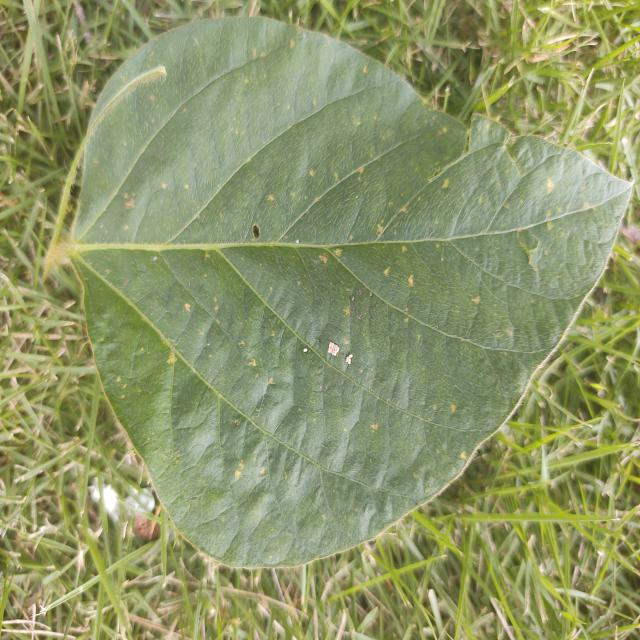Soybean: (62, 15, 633, 570)
downey_mildew: (111, 332, 158, 406), (230, 443, 276, 489), (317, 330, 357, 372), (344, 283, 372, 324), (516, 229, 539, 273), (122, 191, 137, 212), (234, 459, 246, 480), (327, 341, 339, 356), (546, 177, 556, 192), (38, 602, 48, 617), (167, 353, 177, 365), (407, 274, 415, 287), (470, 295, 480, 305), (399, 205, 409, 215), (318, 254, 327, 264), (441, 178, 449, 189), (546, 221, 554, 231), (334, 248, 342, 257), (450, 403, 457, 413), (184, 302, 191, 312), (383, 266, 390, 276), (248, 359, 256, 367), (370, 423, 378, 431), (343, 307, 351, 315), (460, 451, 467, 460), (358, 289, 365, 298), (377, 223, 383, 233), (506, 328, 513, 336), (401, 245, 408, 253), (267, 194, 274, 202), (357, 166, 364, 174), (478, 195, 484, 204), (289, 39, 294, 49), (162, 182, 168, 190), (309, 169, 315, 177), (322, 384, 328, 392), (349, 305, 355, 313), (363, 65, 368, 74), (8, 176, 13, 185), (252, 48, 256, 59), (268, 377, 274, 384), (123, 224, 129, 231), (205, 251, 210, 259), (239, 340, 245, 346), (150, 95, 155, 102), (116, 376, 121, 383), (404, 316, 409, 323), (350, 295, 355, 302), (153, 256, 158, 262), (344, 339, 349, 345), (413, 472, 418, 478), (184, 183, 189, 189), (303, 348, 308, 353), (295, 239, 300, 244), (322, 514, 326, 520), (171, 345, 175, 351), (369, 292, 373, 297), (203, 273, 207, 278), (441, 257, 444, 262)
